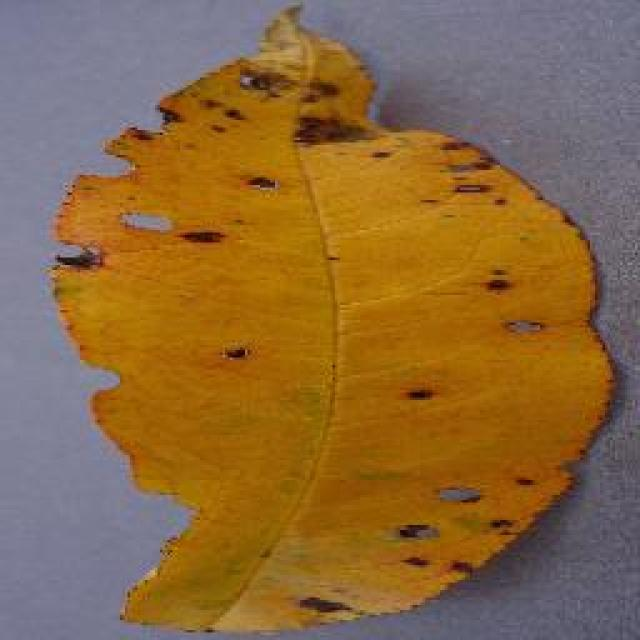Peach_Bacterial_Spot: (89, 27, 584, 573)
